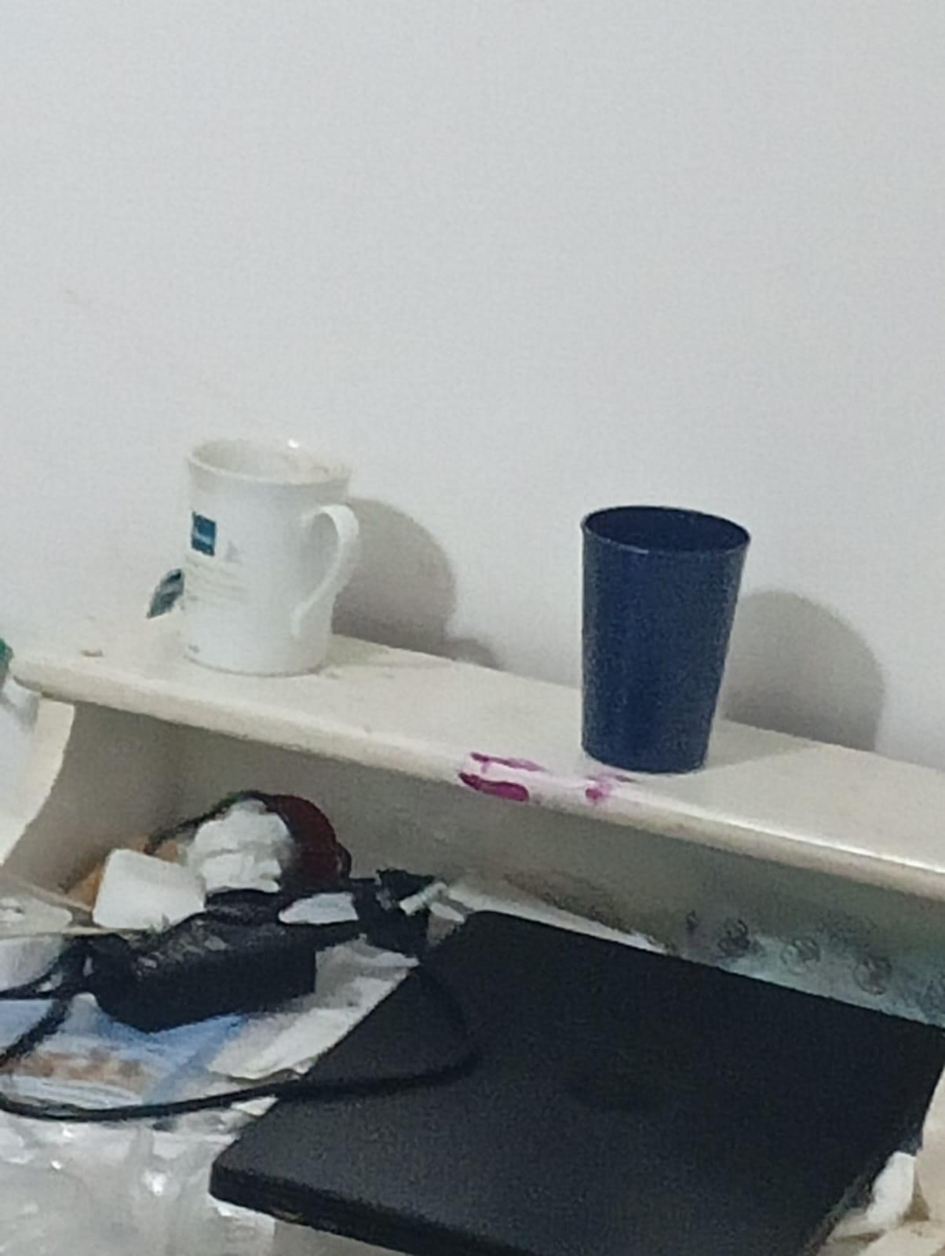cup: (582, 506, 749, 772), (183, 440, 359, 674)
